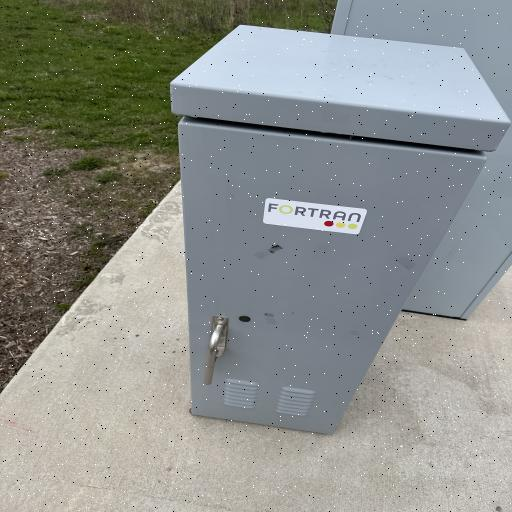Electrical Box: (171, 25, 510, 434)
